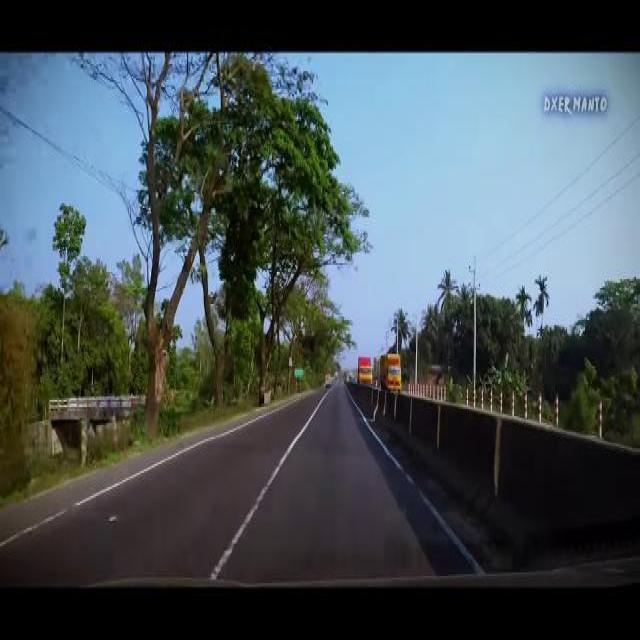truck: (378, 352, 402, 391), (356, 354, 372, 386)
